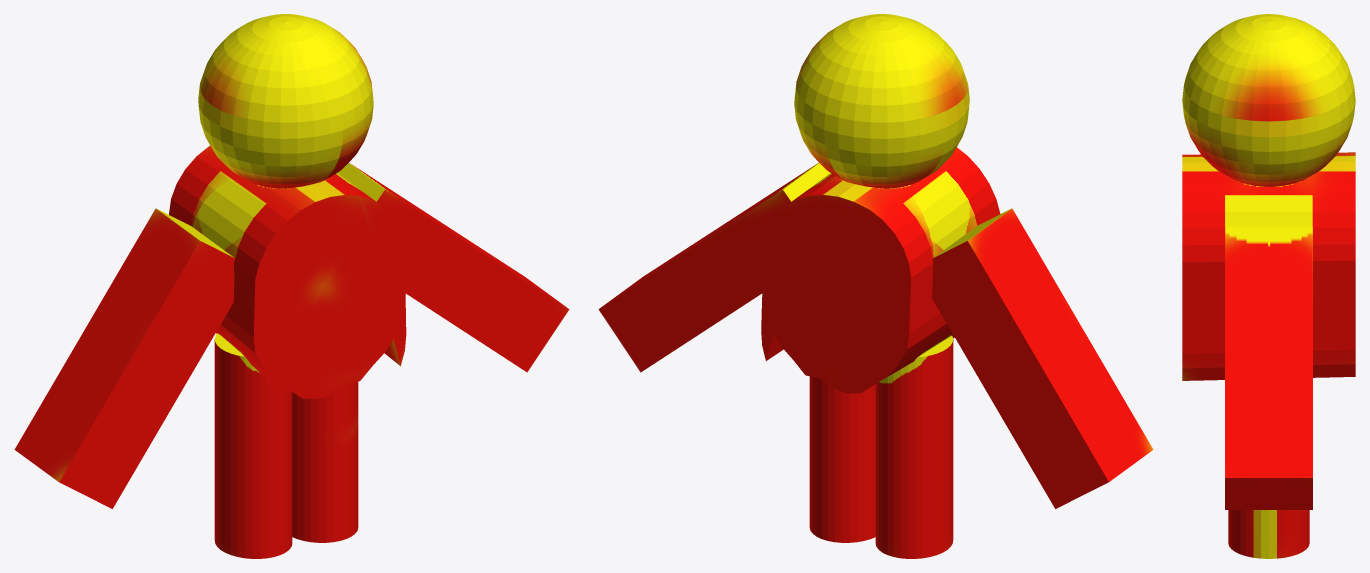
Rendered from Figurine30.obj.
The picture shows the model from 3 angles, left to right: view 1: azimuth 30°, elevation 25°; view 2: azimuth 150°, elevation 25°; view 3: azimuth 270°, elevation 25°; orthographic projection.
Visible parts, largest first — view 1: Bone.005, Bone.007, Bone.010, Bone.014, Bone.004, Bone.012, Bone.003, Bone.002; view 2: Bone.005, Bone.007, Bone.010, Bone.014, Bone.004, Bone.012, Bone.003, Bone.002; view 3: Bone.004, Bone.010, Bone.002, Bone.012, Cylinder_Material.001, Bone.005.
Boxes of the visible parts, x1,y1,x2,y2 form: Bone.005: (169,145,406,399); Bone.007: (14,208,234,508); Bone.010: (198,14,373,188); Bone.014: (214,339,292,558); Bone.004: (349,163,569,372); Bone.012: (292,381,358,542); Bone.003: (337,163,384,201); Bone.002: (325,173,400,365); Bone.005: (761,147,1000,393); Bone.007: (932,208,1153,508); Bone.010: (794,14,969,188); Bone.014: (875,339,953,558); Bone.004: (598,163,818,372); Bone.012: (809,376,875,542); Bone.003: (783,163,830,201); Bone.002: (766,173,842,360); Bone.004: (1225,226,1312,509); Bone.010: (1182,14,1355,186); Bone.002: (1182,171,1355,380); Bone.012: (1228,510,1309,558); Cylinder_Material.001: (1182,162,1355,171); Bone.005: (1182,152,1355,162).
Bounding box in the file's own units: 6.7 × 6.42 × 2.
